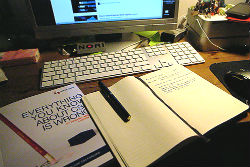Open Book: (80, 64, 250, 165)
